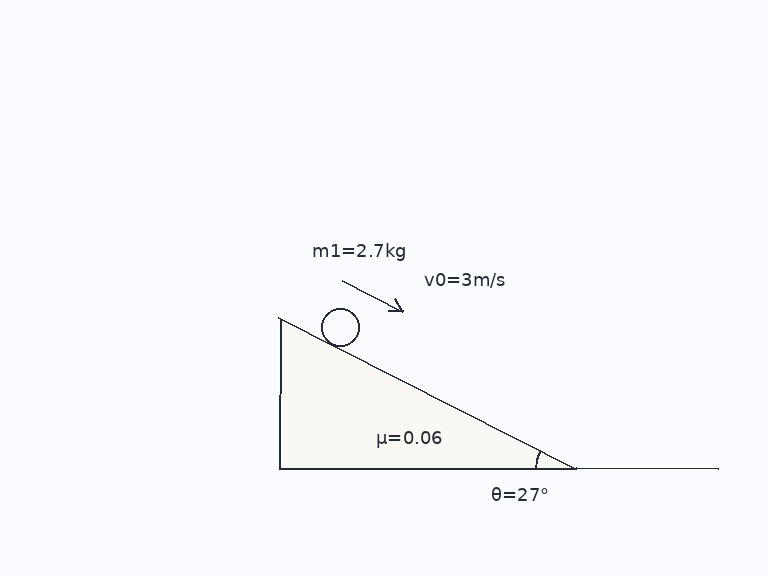ball: (319, 306, 361, 348)
ramp: (277, 316, 578, 471)
